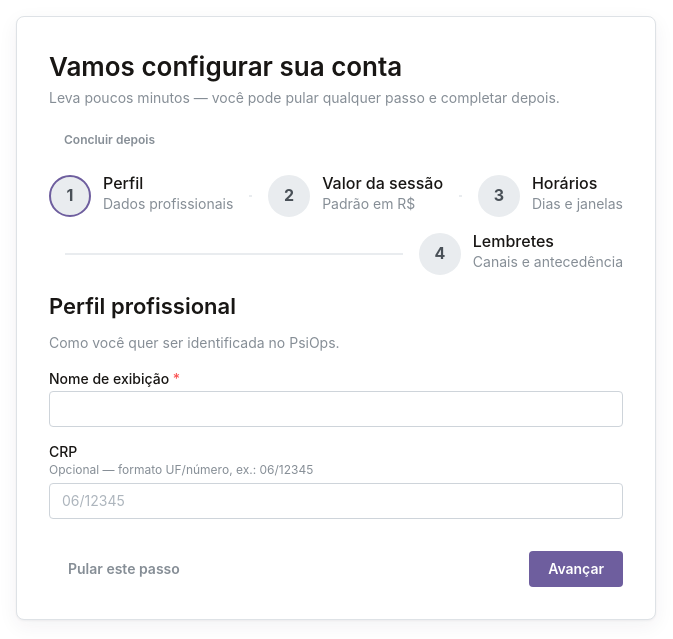
Test: OnboardingPage › permite voltar ao passo anterior
Expected: the form with test id "onboarding-step-perfil" is shown, [49, 291, 623, 587]
Click the button "Pular este passo" at (124, 569), box [49, 551, 199, 587]
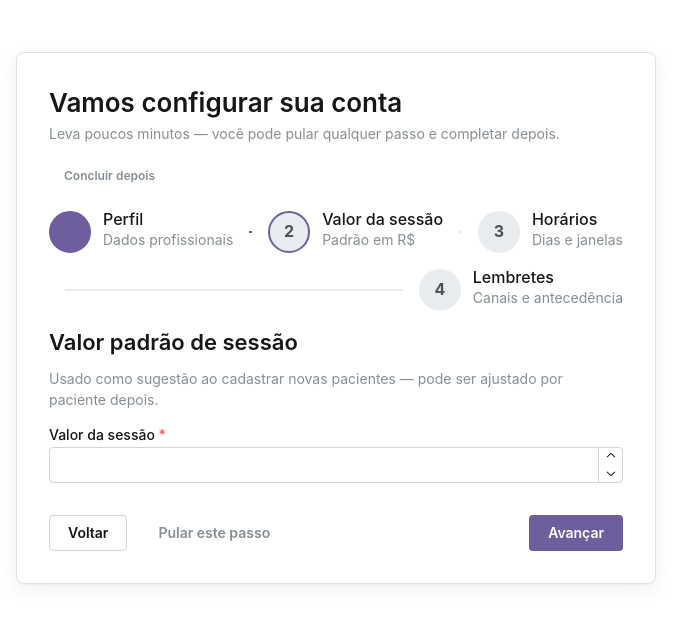
Now the form with test id "onboarding-step-valor-sessao" is shown, box [49, 327, 623, 551]
Click the button "Voltar" at (88, 533), box [49, 515, 127, 551]
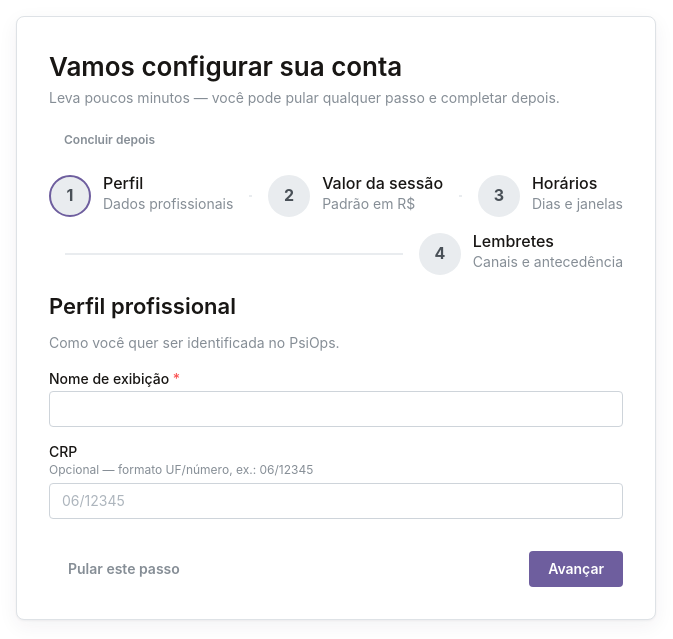
Now the form with test id "onboarding-step-perfil" is shown, box [49, 291, 623, 587]
